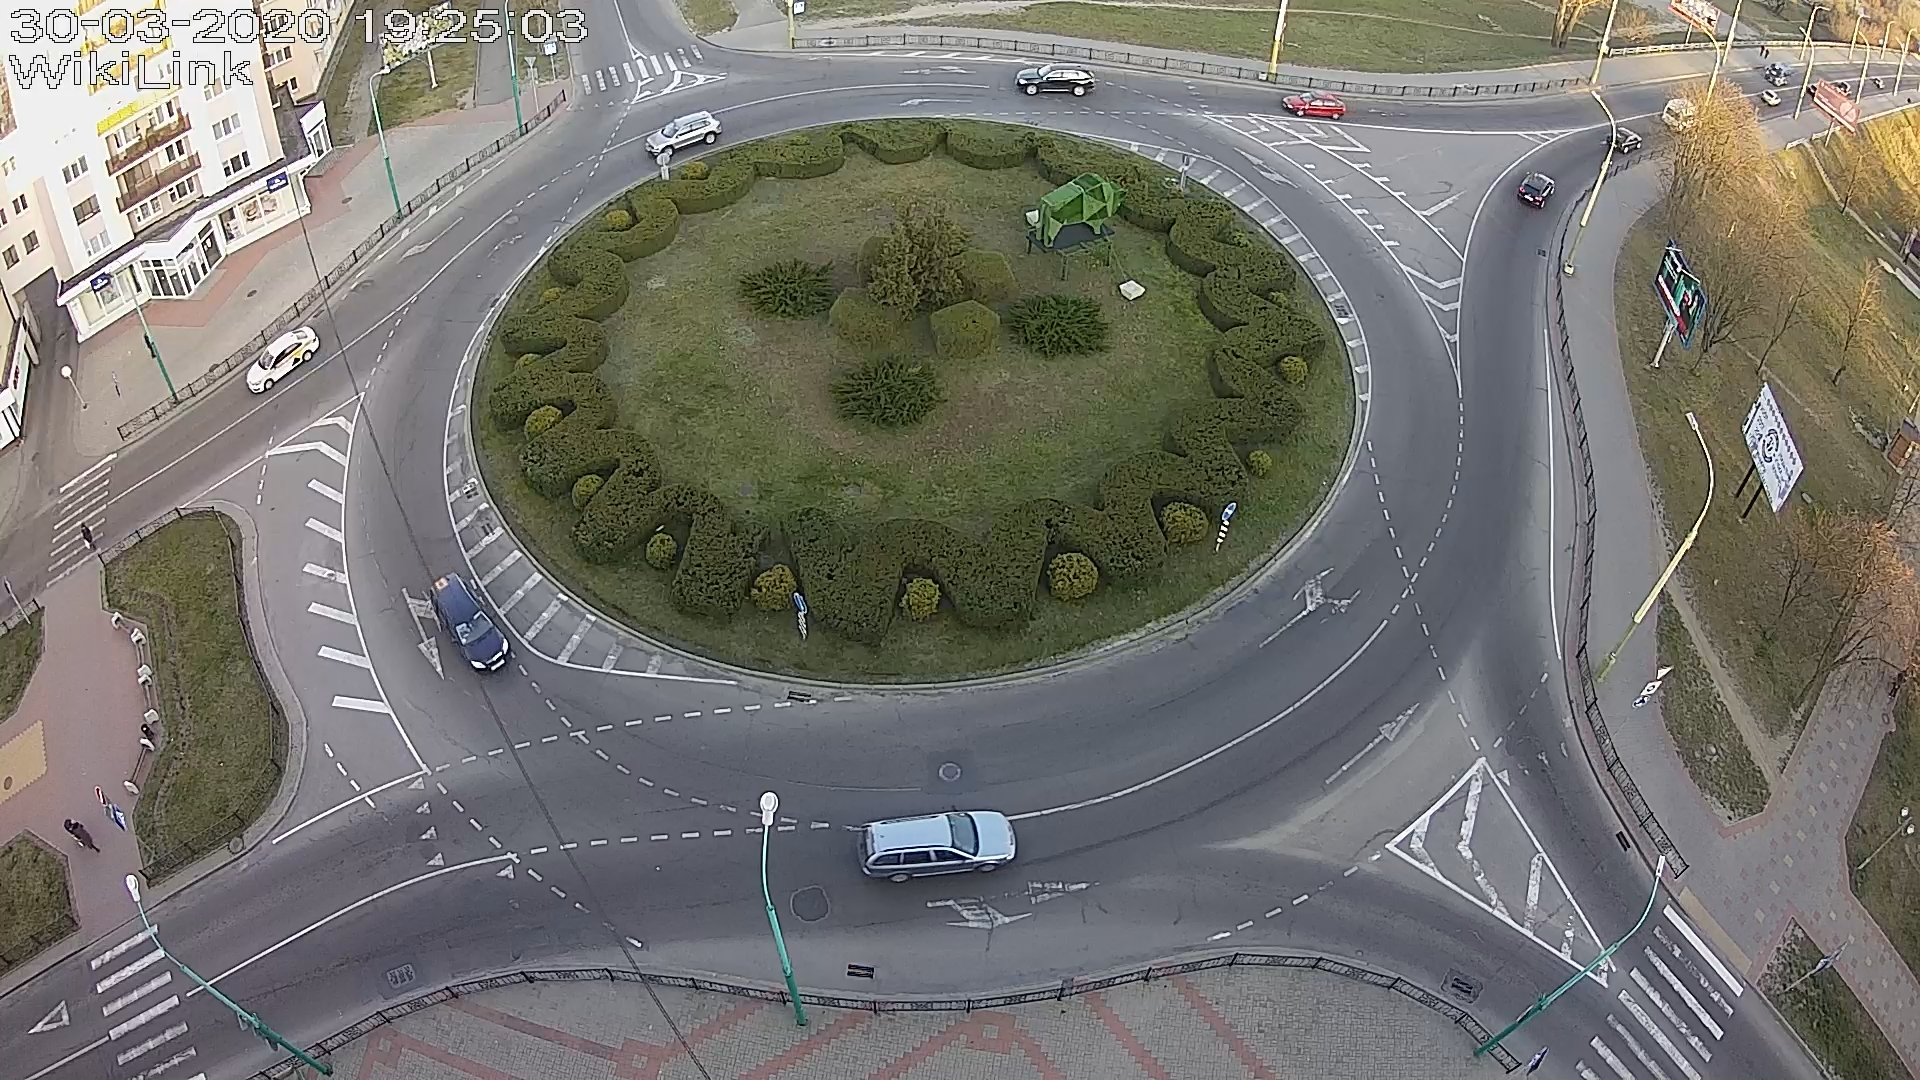car: (856, 810, 1018, 884), (429, 572, 510, 675), (247, 324, 320, 394), (645, 109, 723, 157), (1014, 61, 1096, 96), (1282, 90, 1346, 120), (1516, 170, 1556, 208), (1607, 127, 1642, 154)
